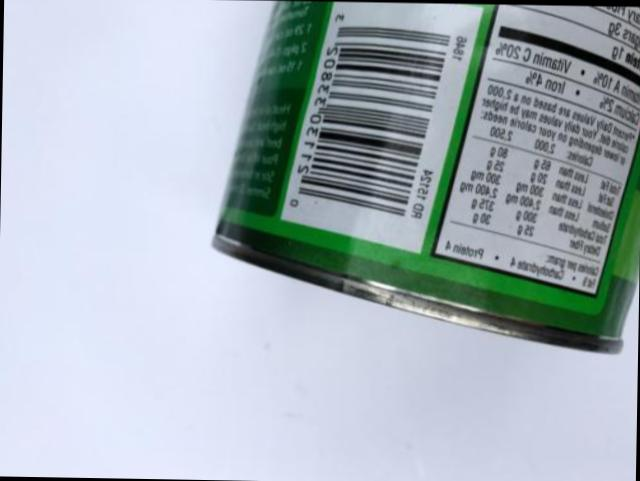metal: (214, 3, 640, 353)
